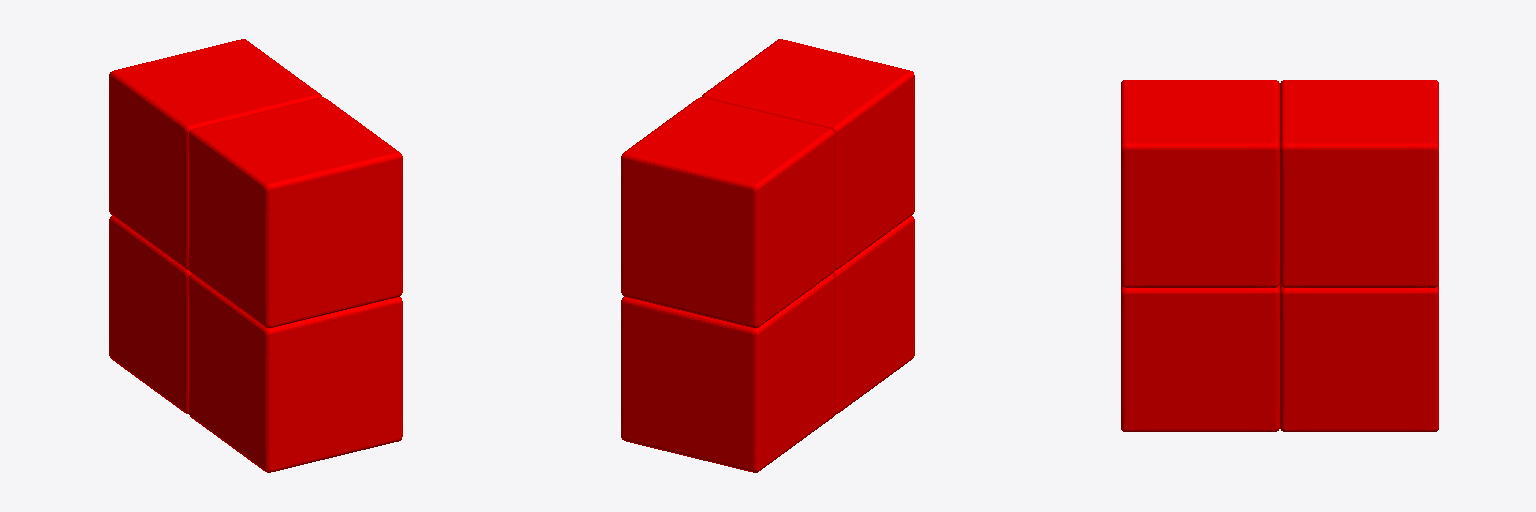
Rendered from Tetris-C.obj.
3 renders of one model, left to right at view 1: azimuth 30°, elevation 25°; view 2: azimuth 150°, elevation 25°; view 3: azimuth 270°, elevation 25°, orthographic.
Bounding box in the file's own units: 15 × 30 × 30.